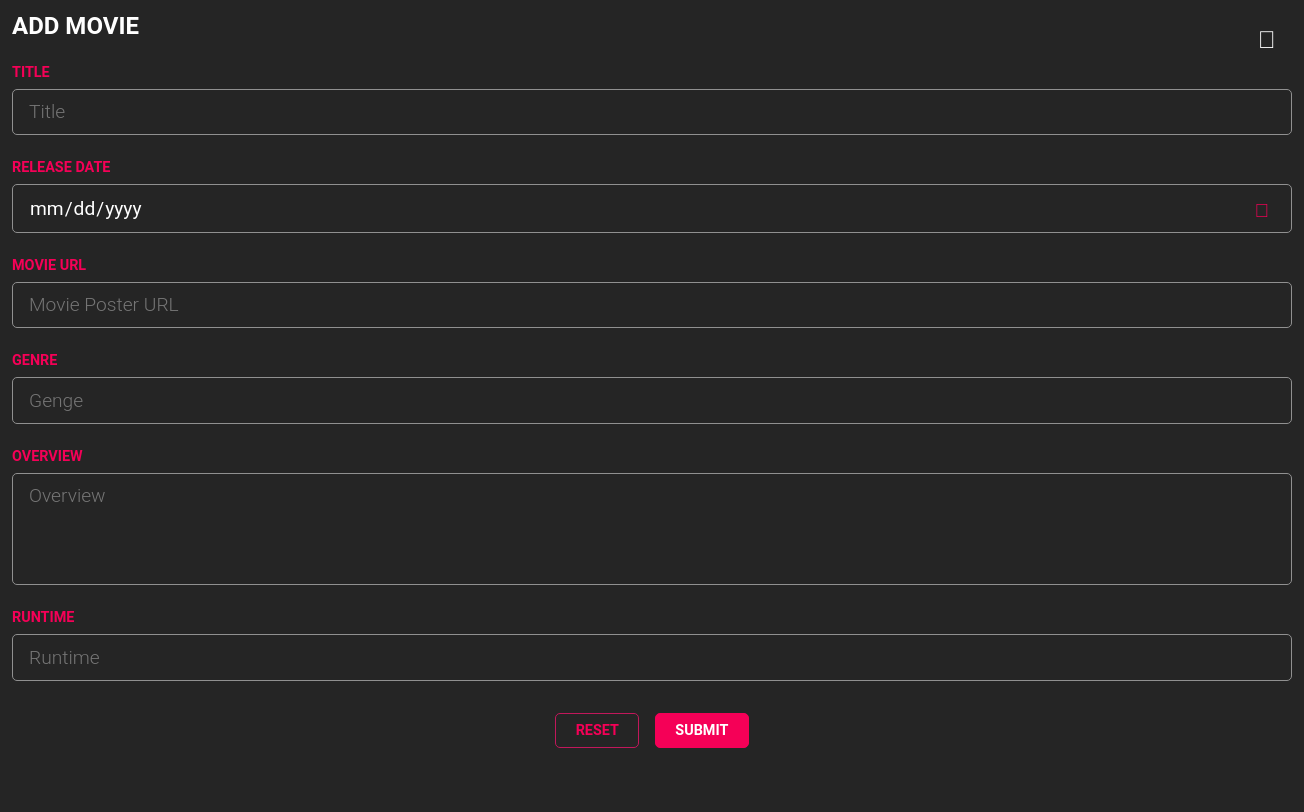
Test: AddMovieForm Component › reset button should work properly
Type "test" into the field labelled "Title" at (652, 112), box 12,89 -> 1292,135
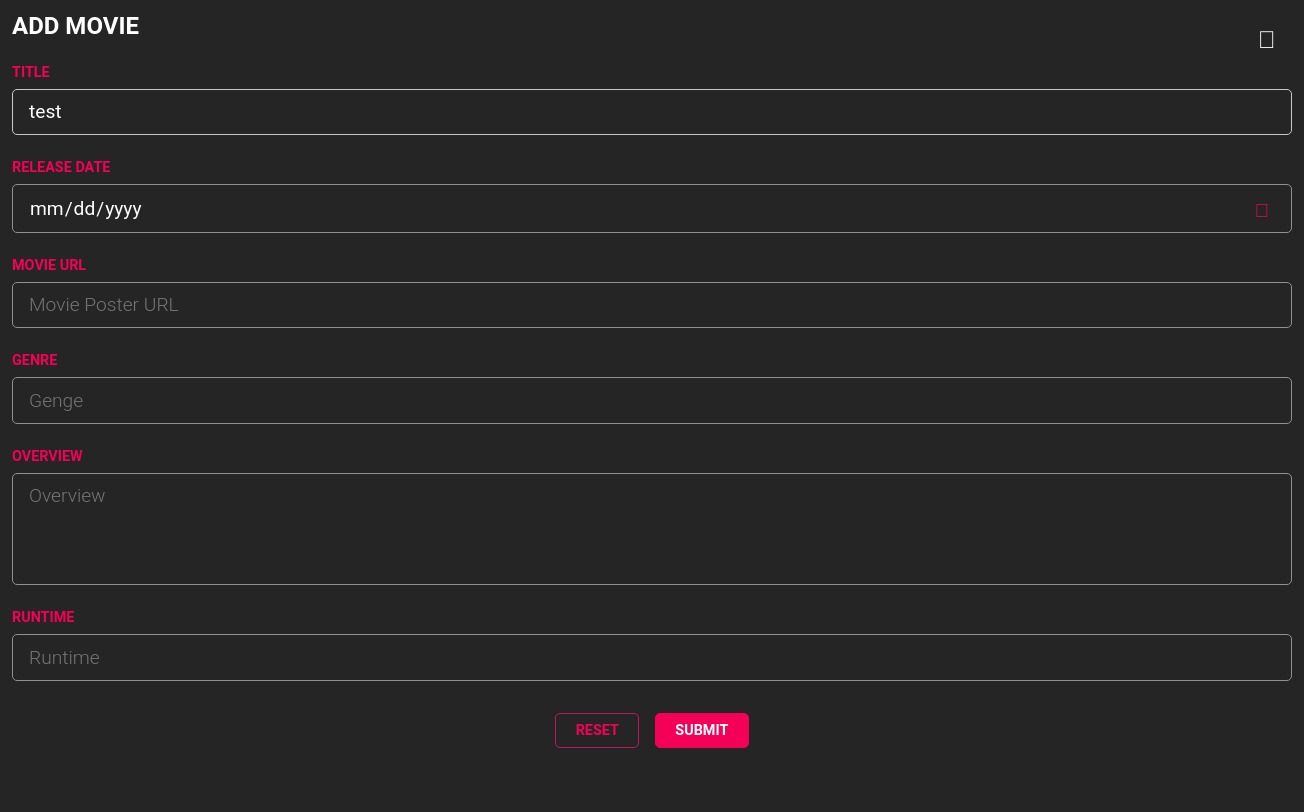
Click the button labelled "RESET" at (597, 730), box 556,713 -> 639,748
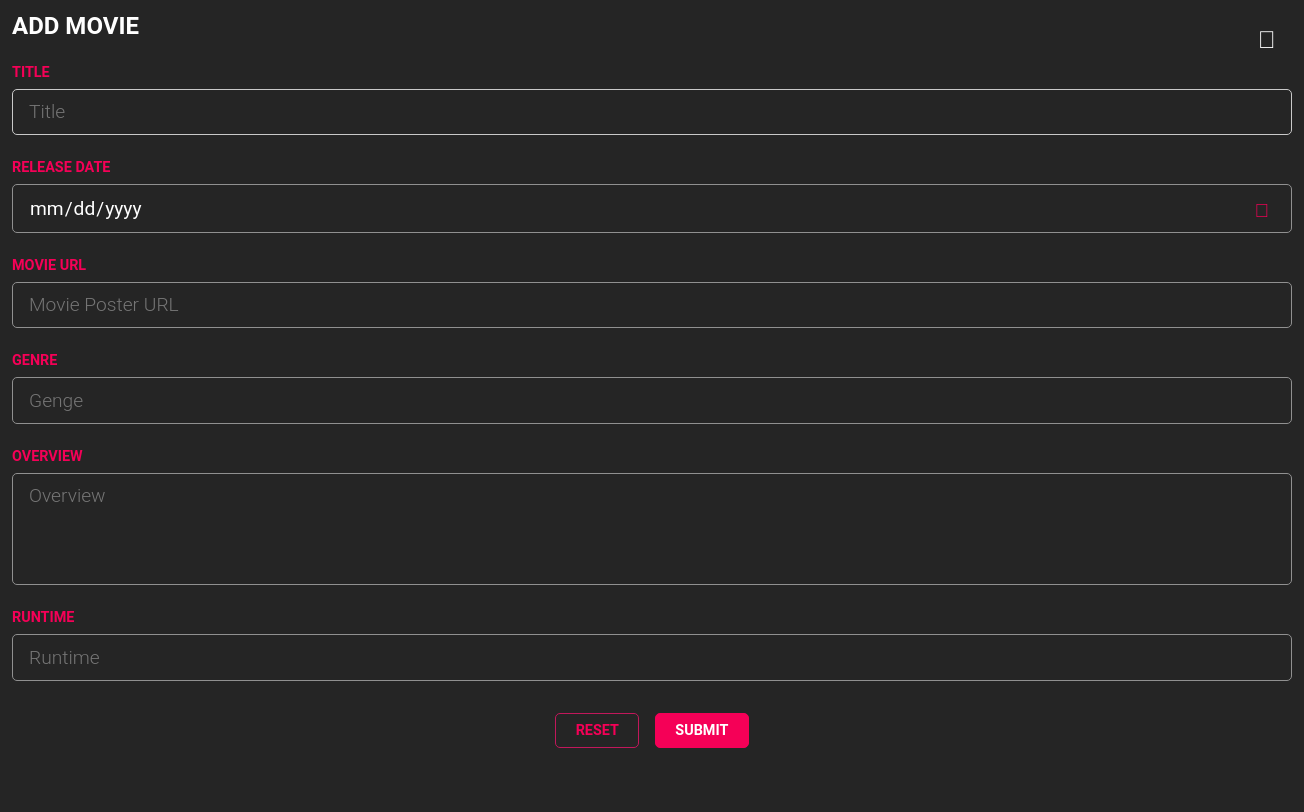
Result: the field labelled "Title" does not hold "test" at 12,89 -> 1292,135
